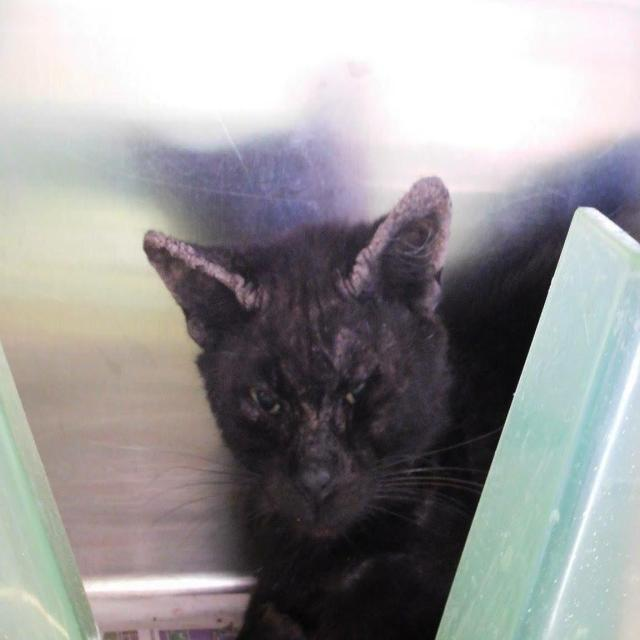ghe: (327, 163, 473, 314), (138, 226, 276, 331)
